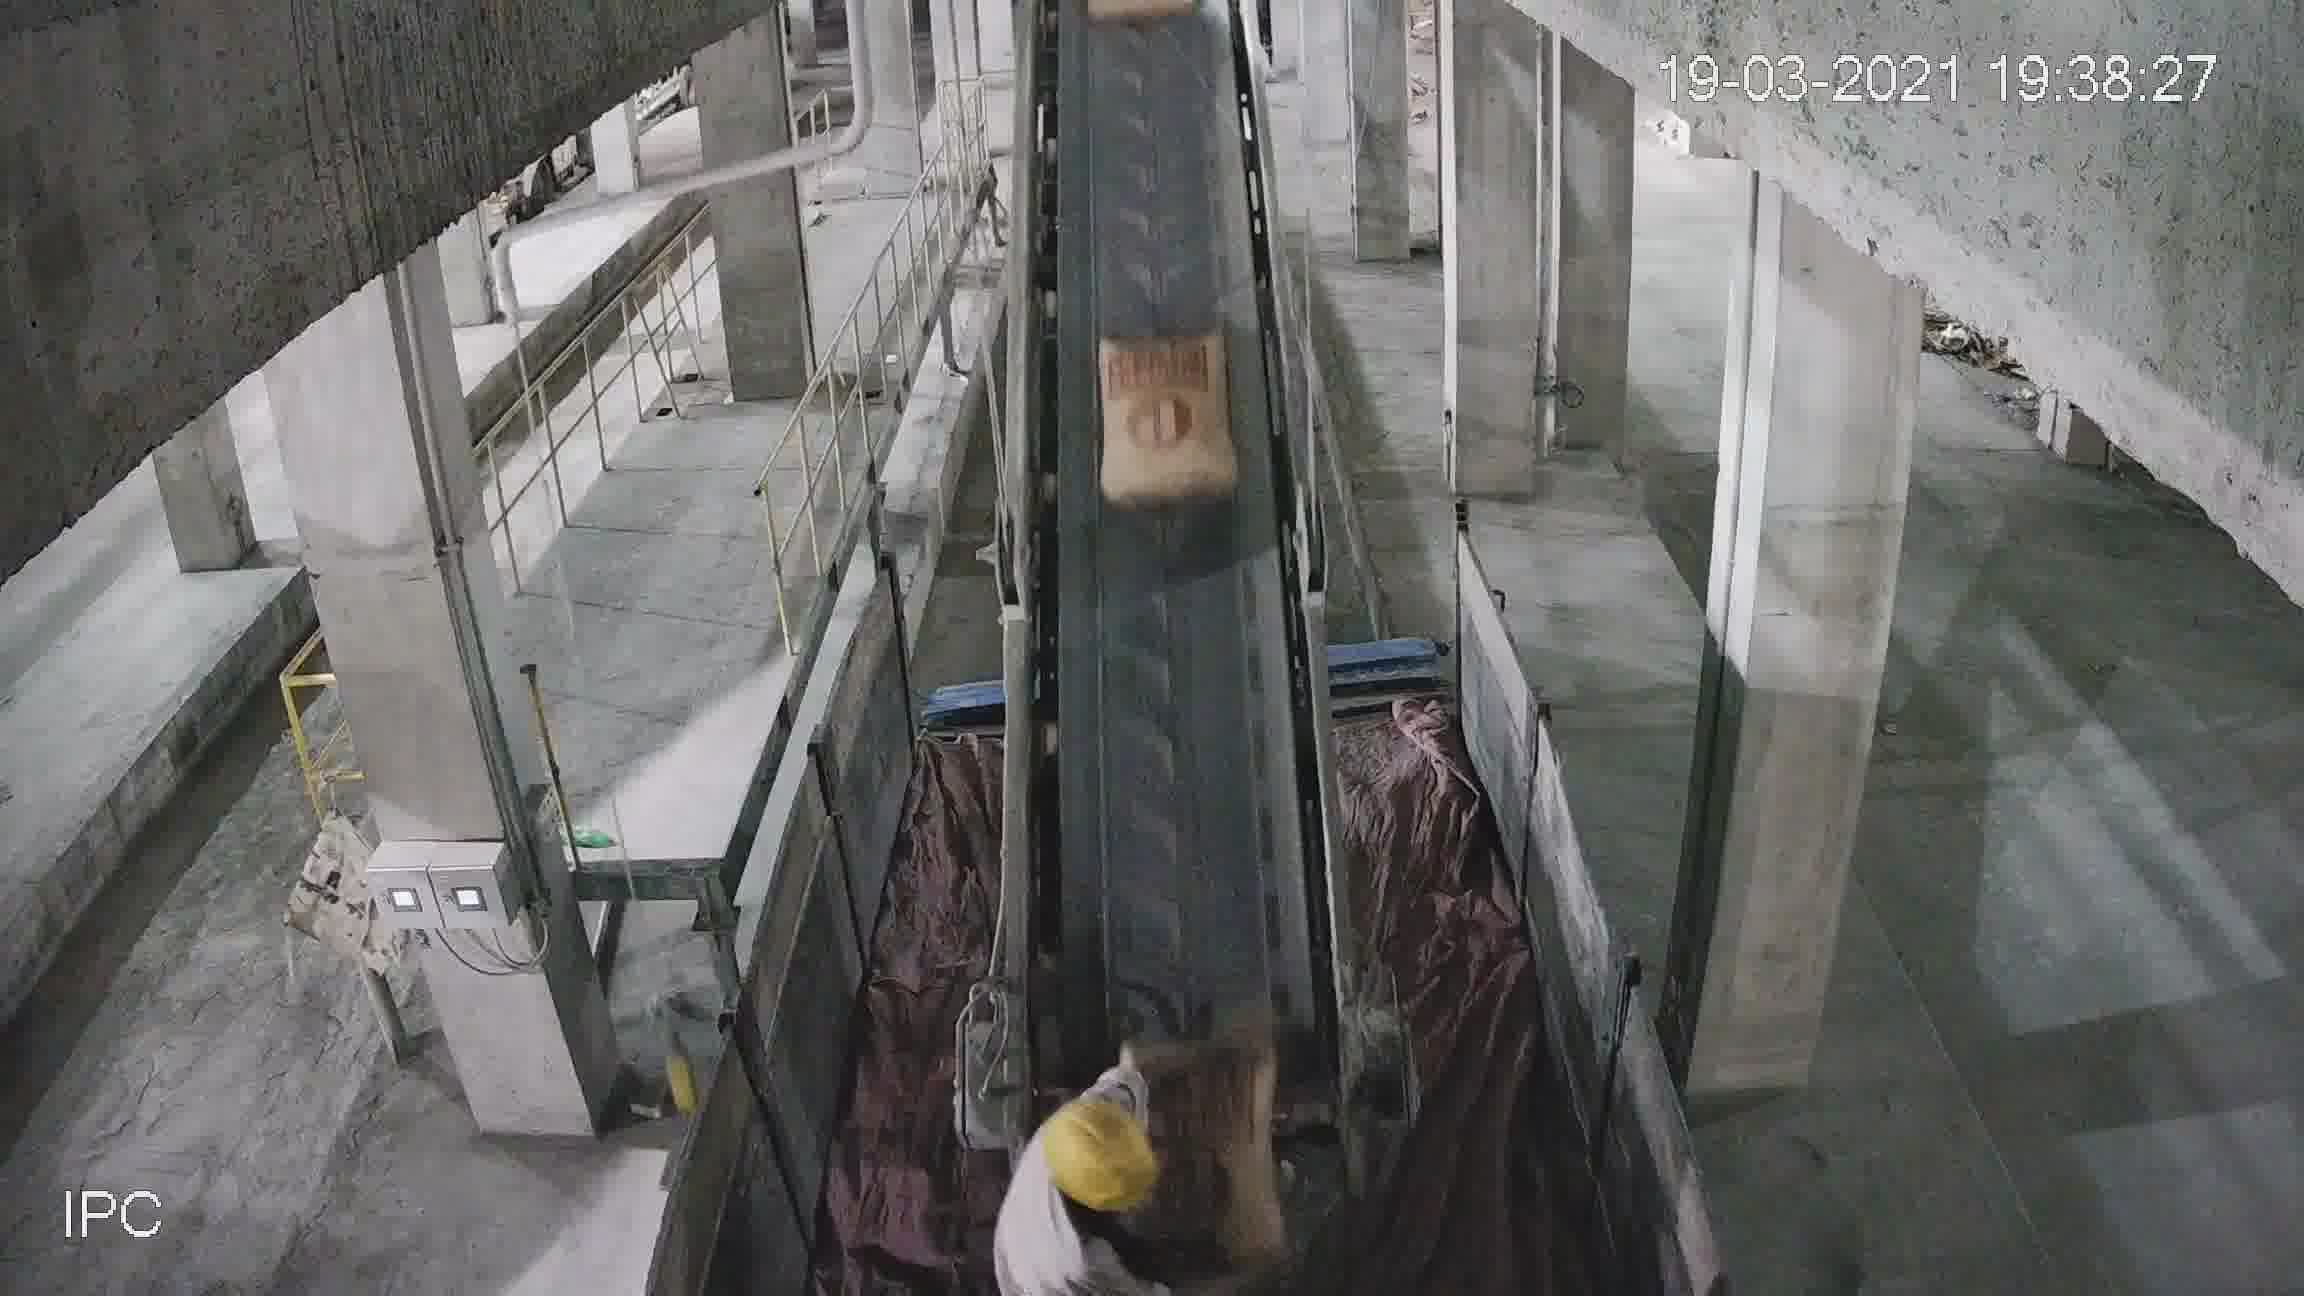bag: (1152, 1041, 1279, 1253), (1100, 331, 1228, 506)
belt: (1014, 74, 1313, 1076)
